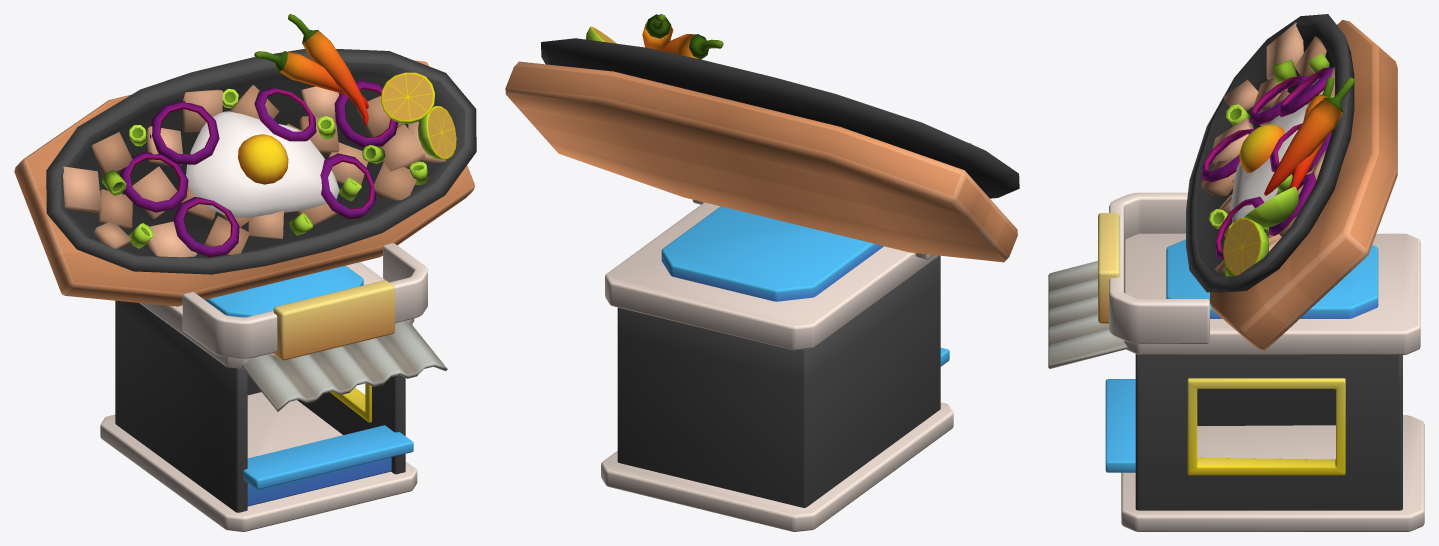
Rendered from lpb_store_sisig.fbx.
The picture shows the model from 3 angles, left to right: view 1: azimuth 30°, elevation 25°; view 2: azimuth 150°, elevation 25°; view 3: azimuth 270°, elevation 25°; orthographic projection. The views are drawn at different scales.
Visible parts, largest first — view 1: Store.016; view 2: Store.016; view 3: Store.016.
Boxes of the visible parts, left/top/right/bottom form: Store.016: left=14, top=14, right=476, bottom=531; Store.016: left=505, top=14, right=1019, bottom=531; Store.016: left=1048, top=14, right=1424, bottom=531.
Bounding box in the file's own units: 718 × 646 × 500.
